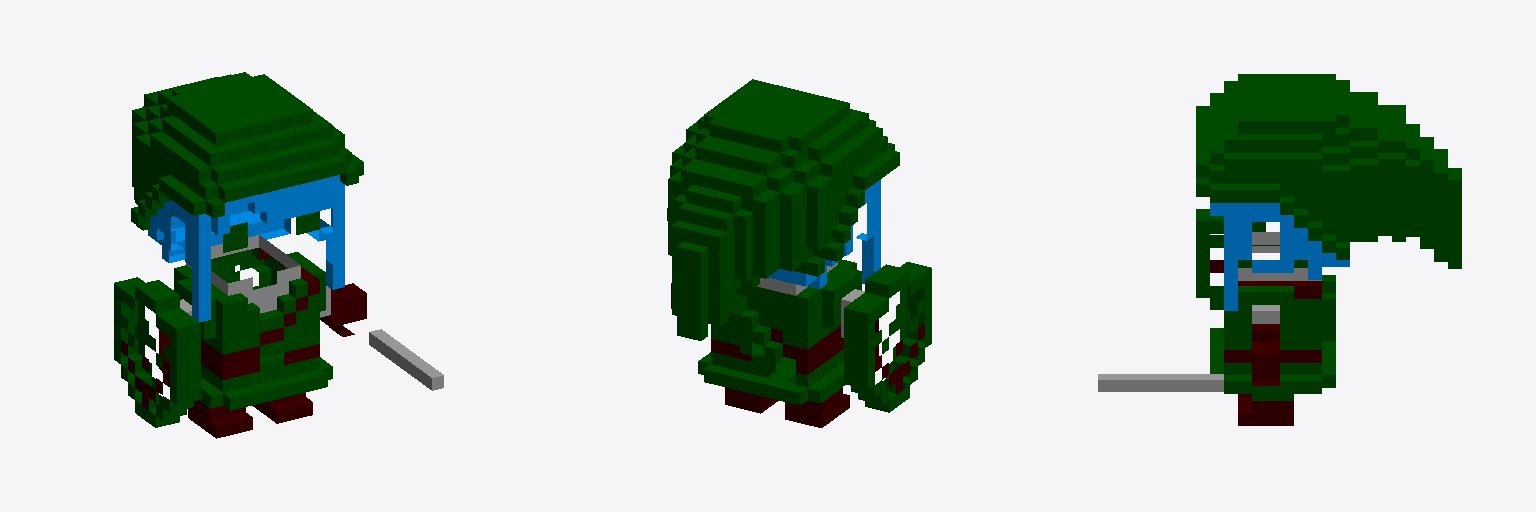
3 views of the same model, side by side, from view 1: azimuth 30°, elevation 25°; view 2: azimuth 150°, elevation 25°; view 3: azimuth 270°, elevation 25° (orthographic).
Parts seen in each view (by area): view 1: object 1; view 2: object 1; view 3: object 1.
Part boxes in pixels (x1,y1,x2,y2): object 1: (114,72,443,438); object 1: (667,79,931,427); object 1: (1098,74,1461,425).
Bounding box in the file's own units: 2 × 2.4 × 2.6.
1 materials, 1 textured.